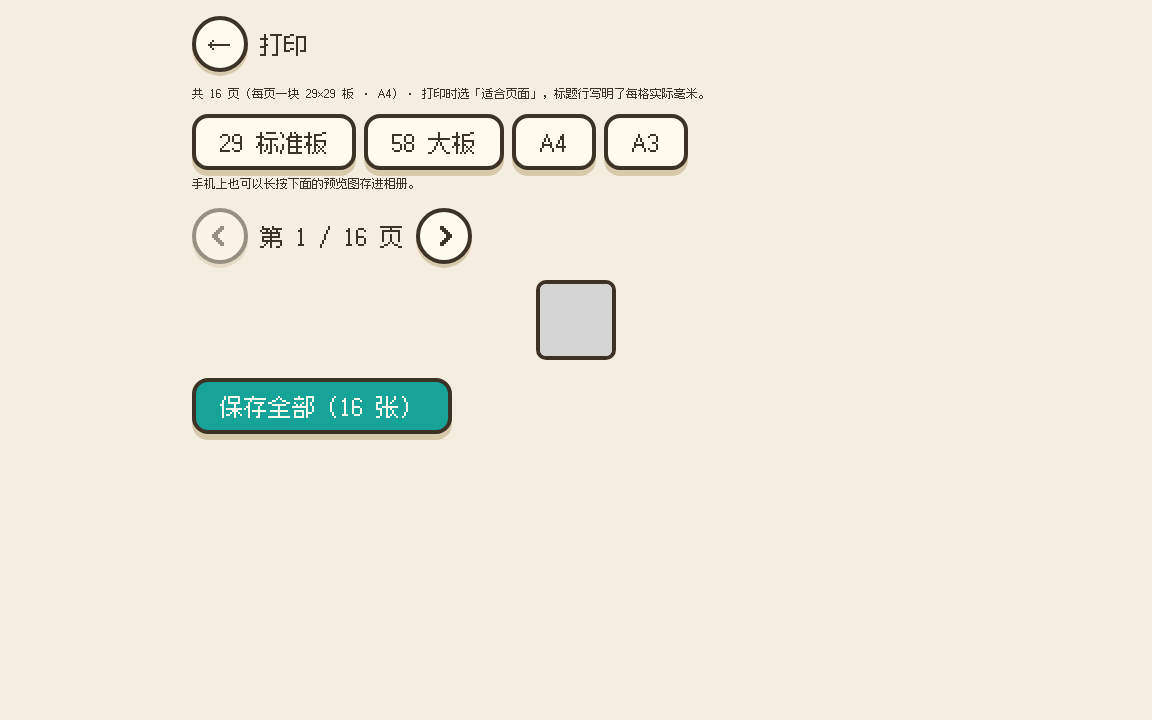
Test: C8：多页预览与一键保存 › 中途失败：停下、如实报已存几张与第几张失败，按钮变成「继续保存剩余 N 张」
Click the button with test id "print-save-all": x=322, y=406 [192,378,452,434]
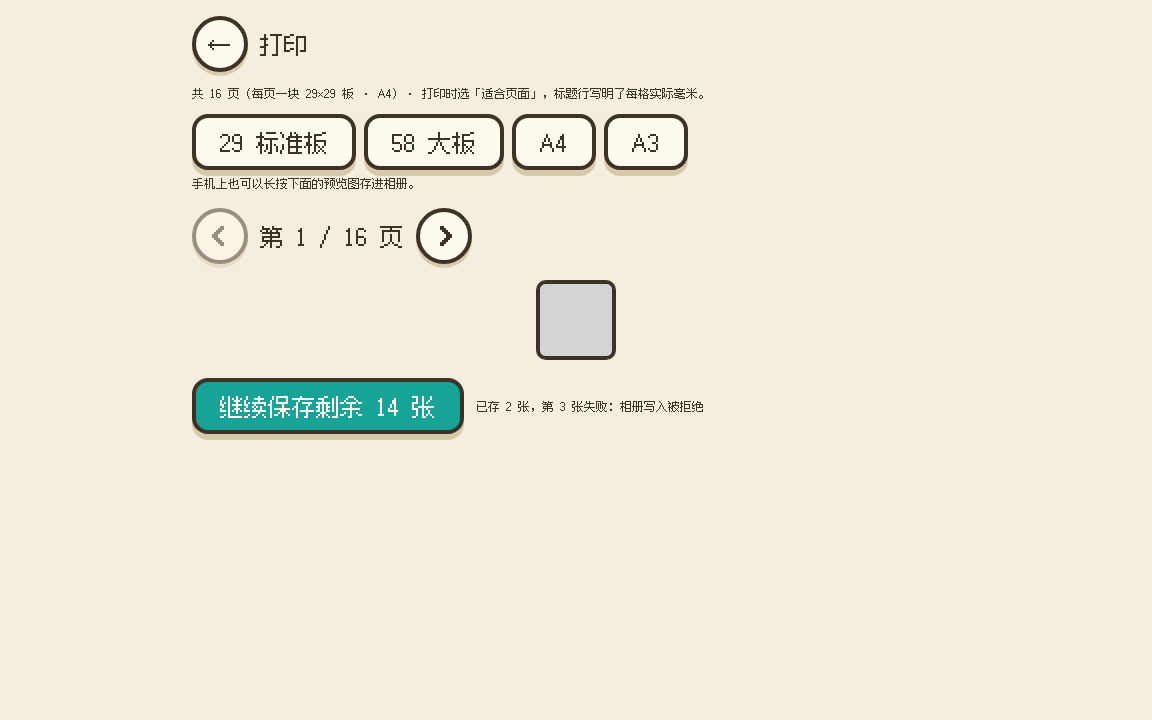
Expected: the text with test id "print-save-state" reads "已存 2 张，第 3 张失败：相册写入被拒绝", [476,398,704,414]
Expected: the text with test id "print-save-state" shows "已存 2 张", [476,398,704,414]
Expected: the text with test id "print-save-state" shows "第 3 张失败：相册写入被拒绝", [476,398,704,414]
Click the button with test id "print-save-all": x=328, y=406 [192,378,464,434]
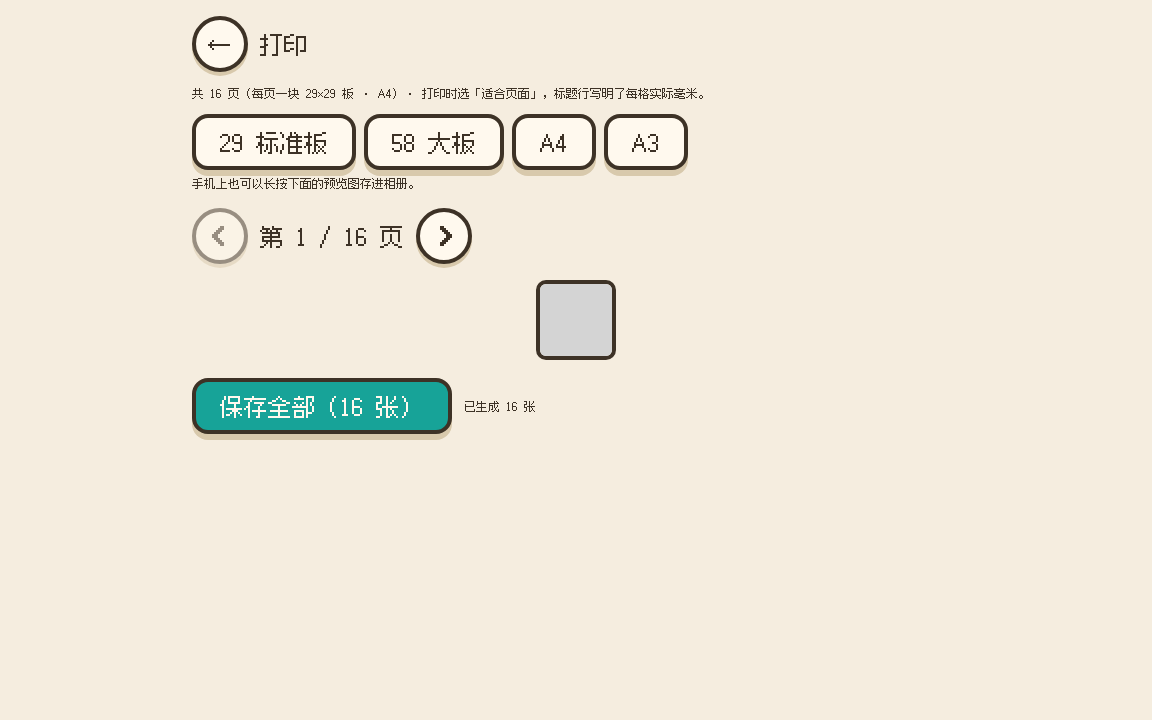
Expected: the text with test id "print-save-state" reads "已生成 16 张", [464,398,536,414]
Expected: the button with test id "print-save-all" reads "保存全部（16 张）", [192,378,452,434]
